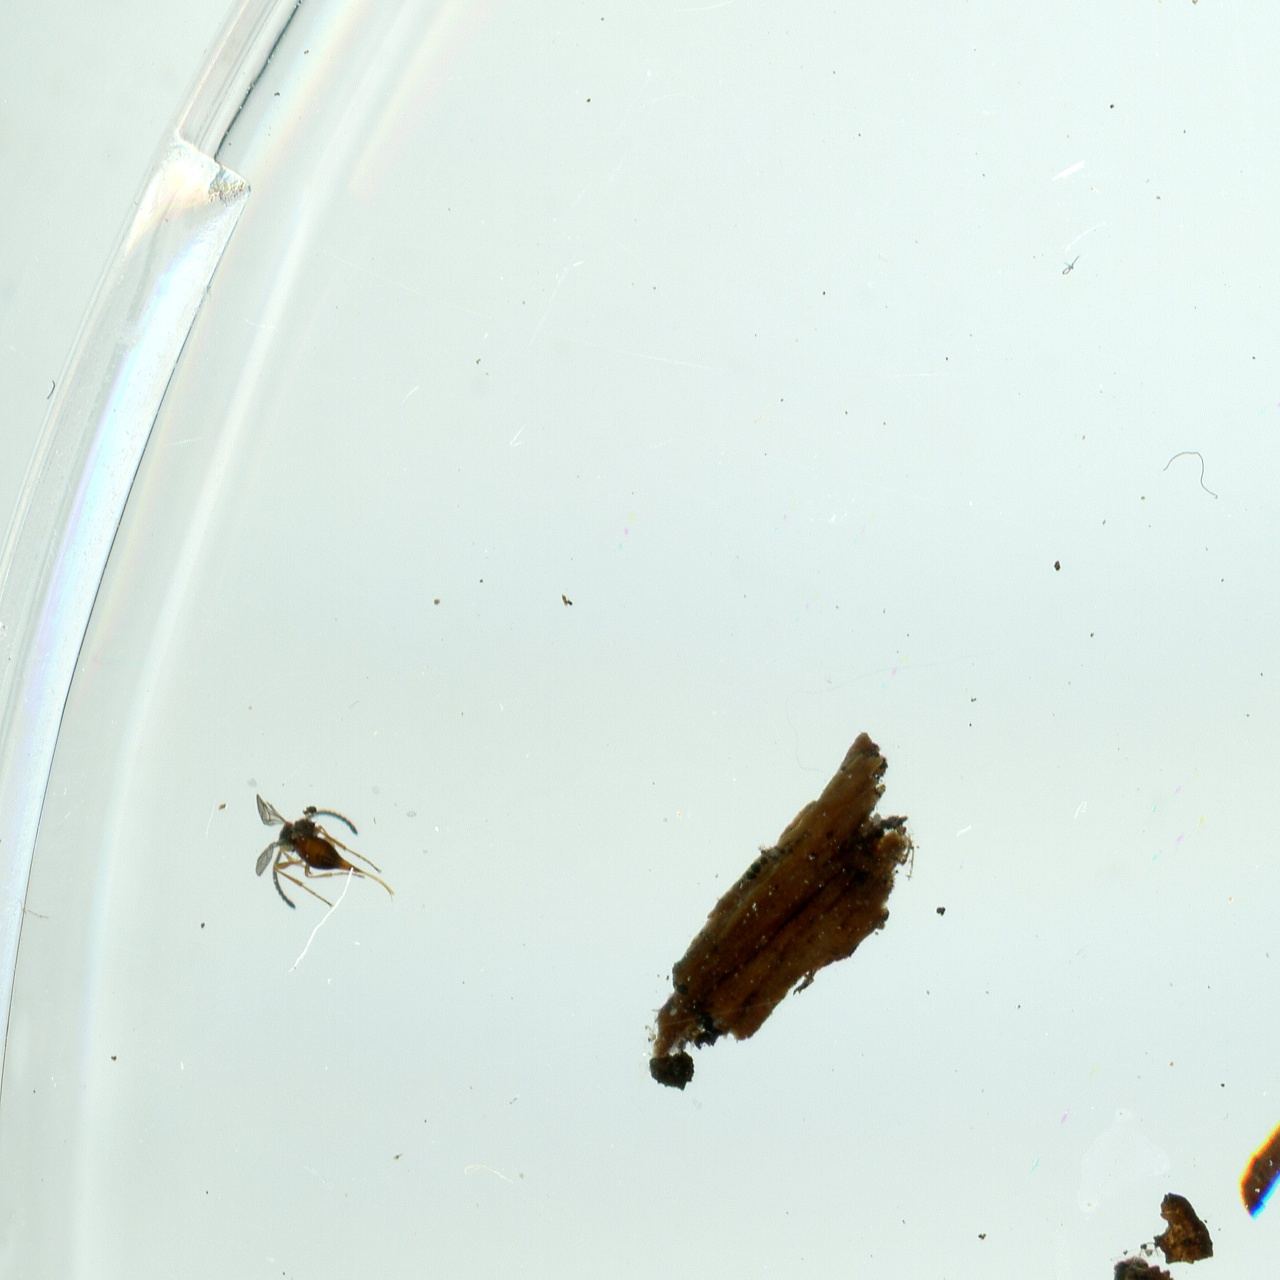arthropod: (246, 788, 403, 919)
